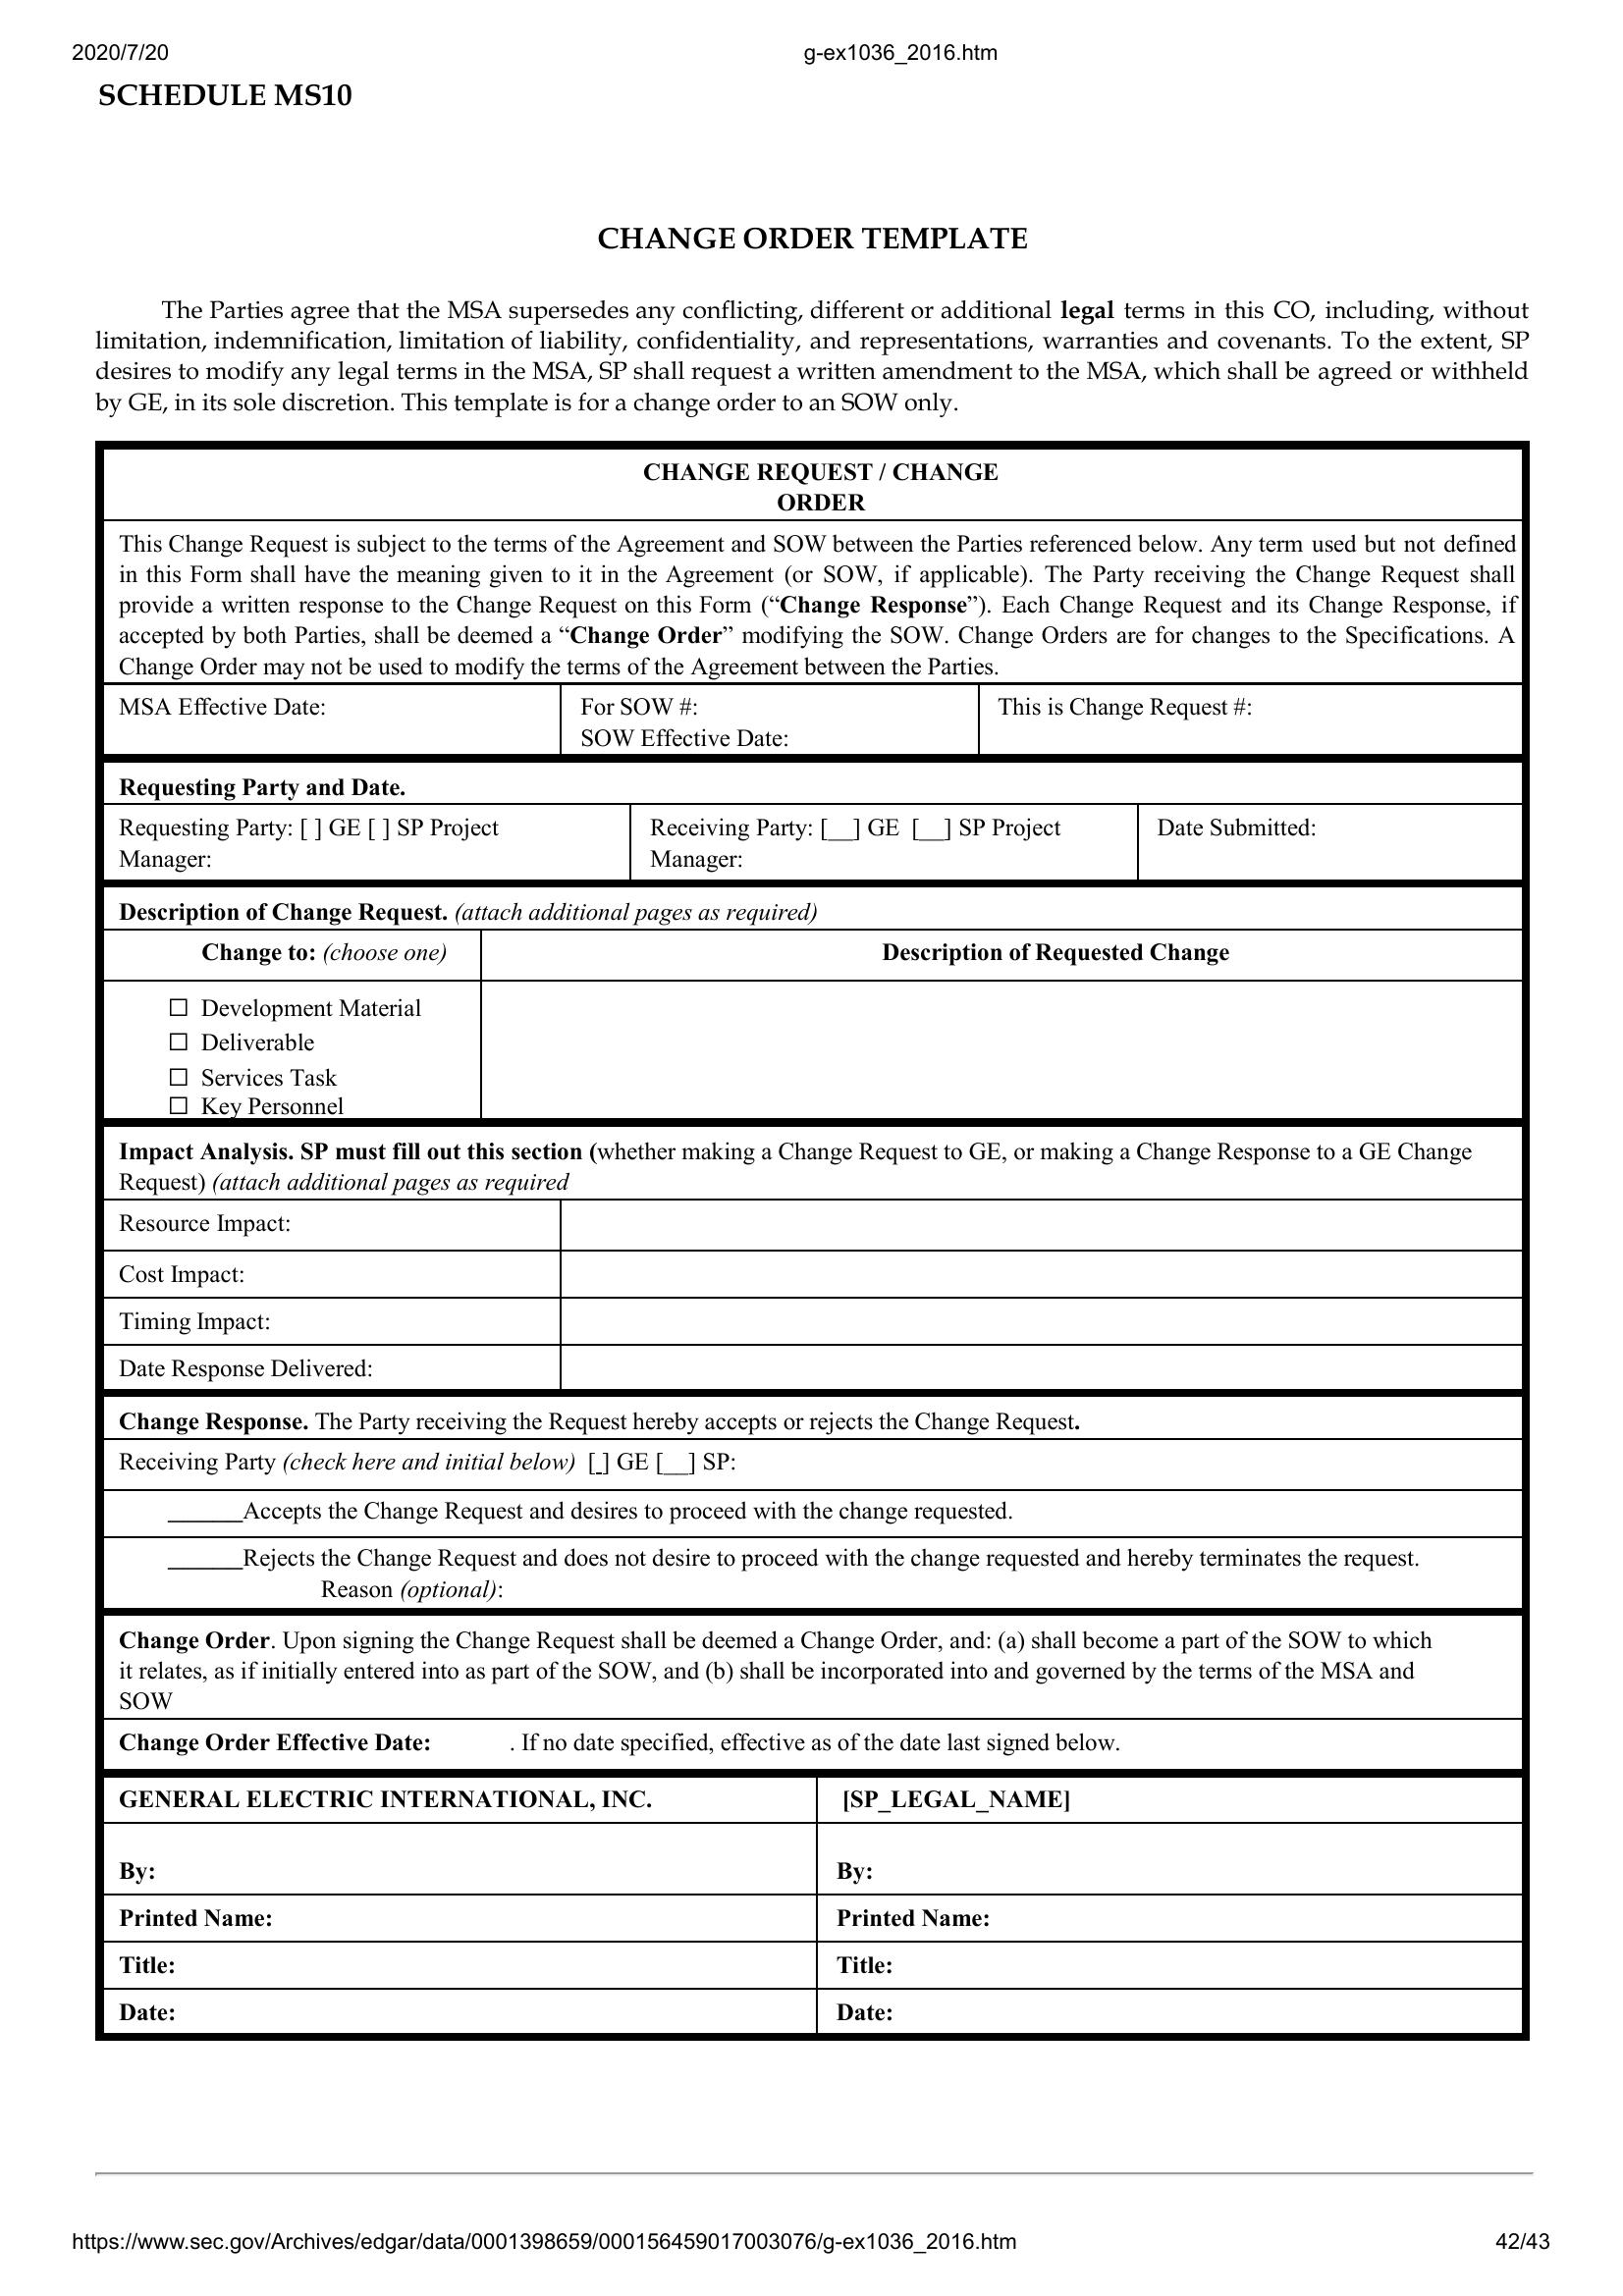table: (86, 432, 1542, 2054)
